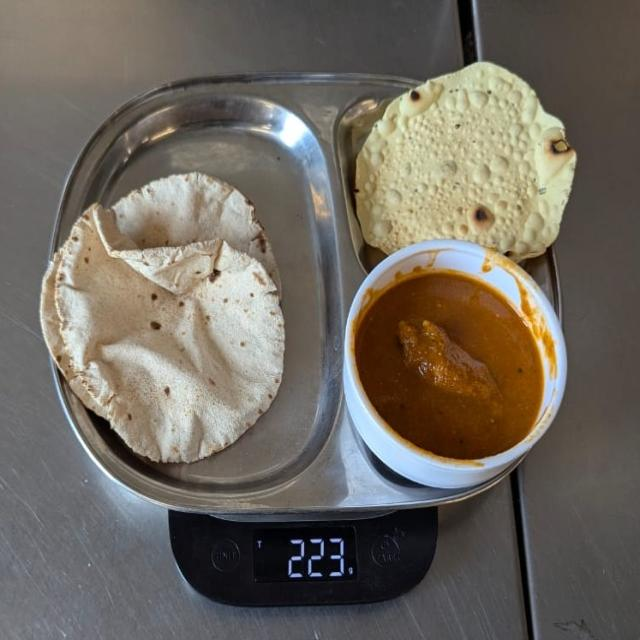Chapati: (36, 167, 289, 469)
Chicken Curry: (355, 267, 551, 464)
Papad: (356, 57, 579, 260)
